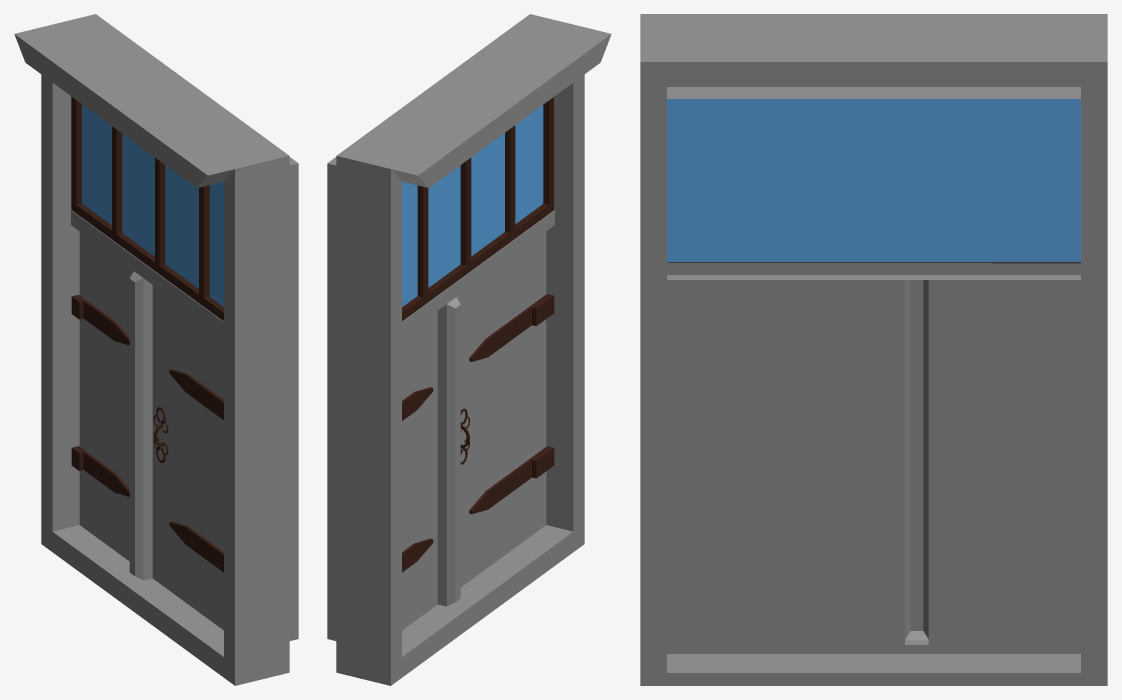
The model's file is DoorLOD0_1.FBX.
3 views of the same model, side by side, from view 1: azimuth 30°, elevation 25°; view 2: azimuth 150°, elevation 25°; view 3: azimuth 270°, elevation 25° (orthographic). The views are drawn at different scales.
Parts seen in each view (by area): view 1: 1; view 2: 1; view 3: 1.
Boxes of the visible parts, left/top/right/bottom form: 1: left=14, top=14, right=298, bottom=685; 1: left=327, top=14, right=611, bottom=685; 1: left=640, top=14, right=1107, bottom=685.
Bounding box in the file's own units: 23.48 × 114 × 77.35.
